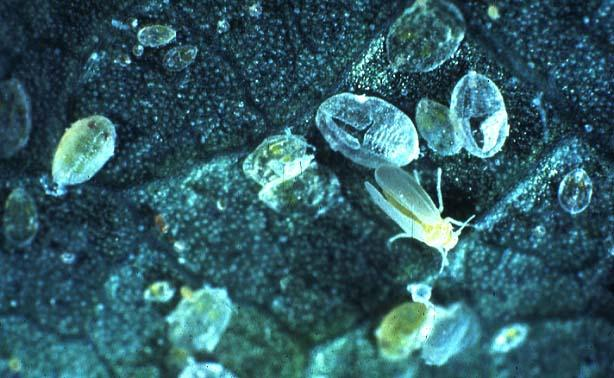Tobacco Whitefly: (352, 160, 471, 266)
